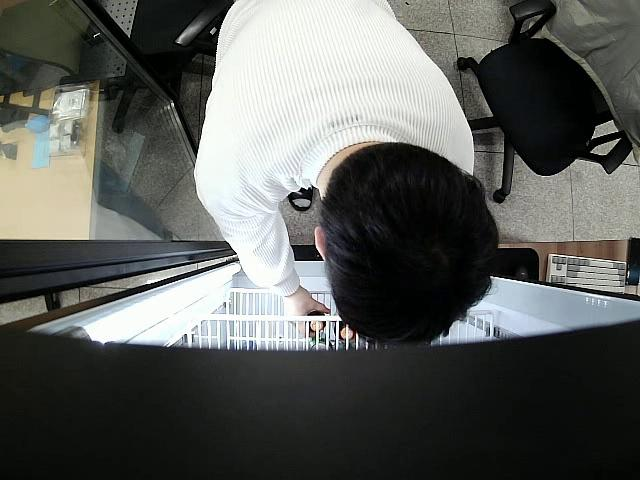00_hand: (282, 289, 331, 336)
17_vita500: (307, 307, 327, 334)
